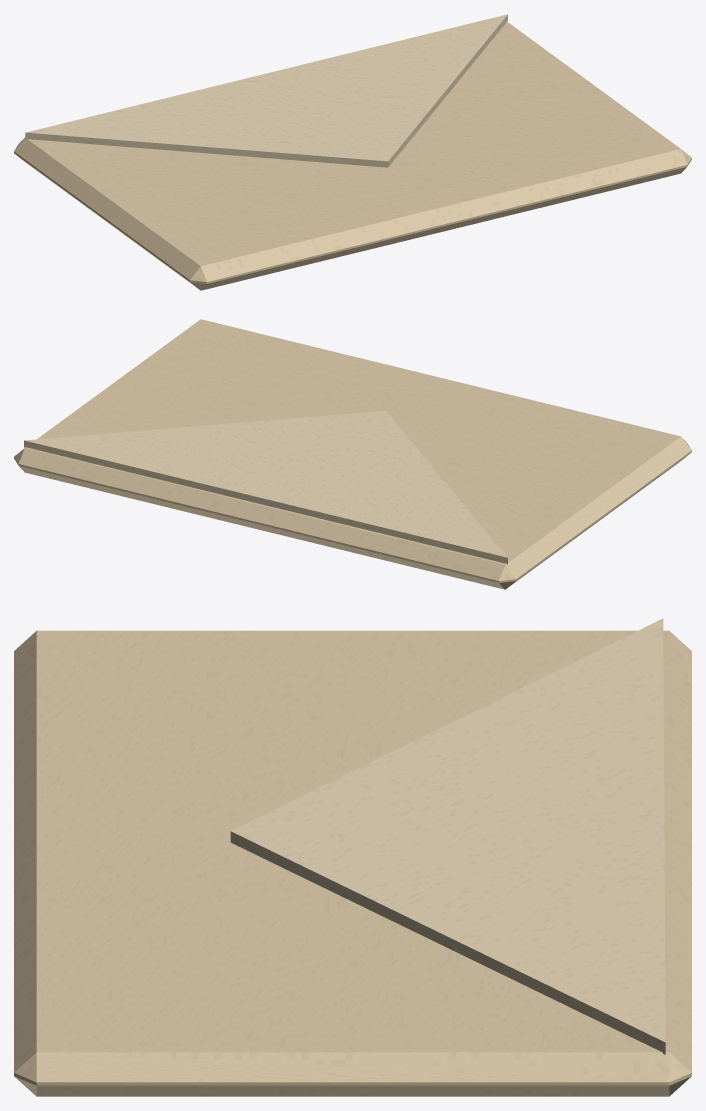
File: letter.glb
3 views of the same model, one above another, from view 1: azimuth 30°, elevation 25°; view 2: azimuth 150°, elevation 25°; view 3: azimuth 270°, elevation 25° (orthographic). The views are drawn at different scales.
Parts seen in each view (by area): view 1: block_folded private letter envelope, block_envelope flap; view 2: block_folded private letter envelope, block_envelope flap; view 3: block_folded private letter envelope, block_envelope flap.
Boxes of the visible parts, x1=… form: block_folded private letter envelope: x1=14, y1=22, x2=691, y2=290; block_envelope flap: x1=25, y1=14, x2=507, y2=167; block_folded private letter envelope: x1=14, y1=319, x2=691, y2=589; block_envelope flap: x1=24, y1=410, x2=507, y2=564; block_folded private letter envelope: x1=14, y1=630, x2=691, y2=1096; block_envelope flap: x1=230, y1=618, x2=665, y2=1054.
Size of the model in its own units: 0.297 by 0.0175 by 0.1931.
Materials: 1 (1 with a texture image).
